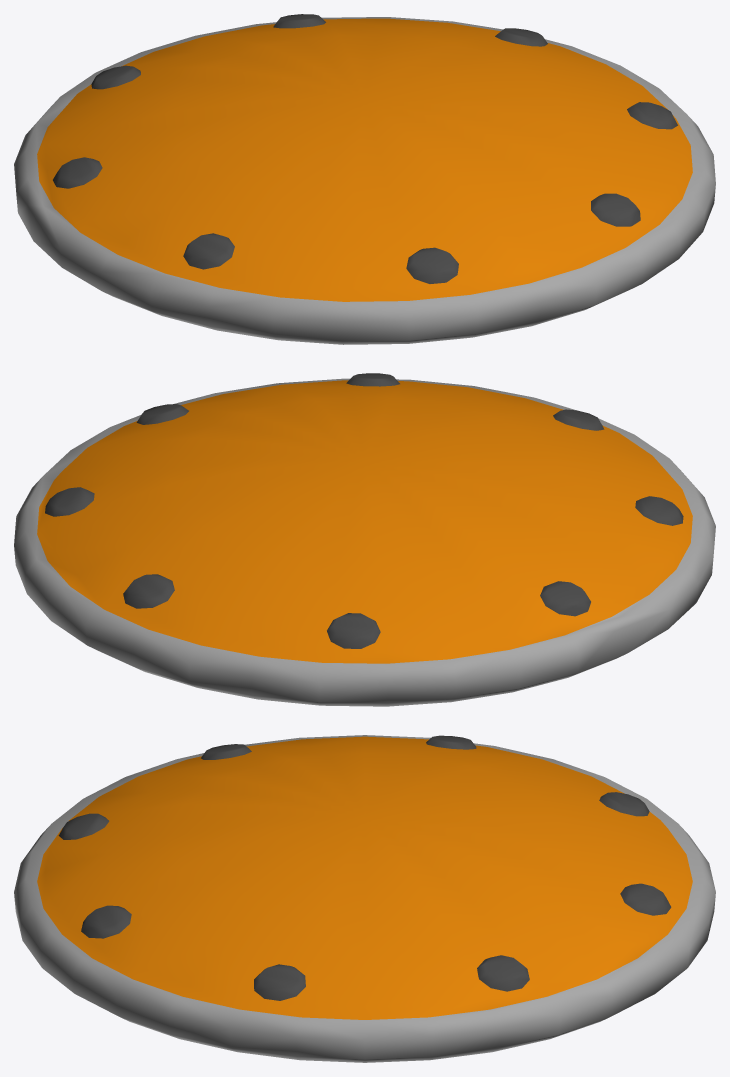
The model's file is kin_golf_duckyhead_platform.fbx.
3 views of the same model, one above another, from view 1: azimuth 30°, elevation 25°; view 2: azimuth 150°, elevation 25°; view 3: azimuth 270°, elevation 25° (orthographic).
Parts seen in each view (by area): view 1: kin_golfmod_duckyhead_platform; view 2: kin_golfmod_duckyhead_platform; view 3: kin_golfmod_duckyhead_platform.
Boxes of the visible parts, left/top/right/bottom form: kin_golfmod_duckyhead_platform: left=14, top=14, right=715, bottom=344; kin_golfmod_duckyhead_platform: left=14, top=373, right=715, bottom=706; kin_golfmod_duckyhead_platform: left=14, top=735, right=715, bottom=1062.
Size of the model in its own units: 19.75 by 3.24 by 19.75.
